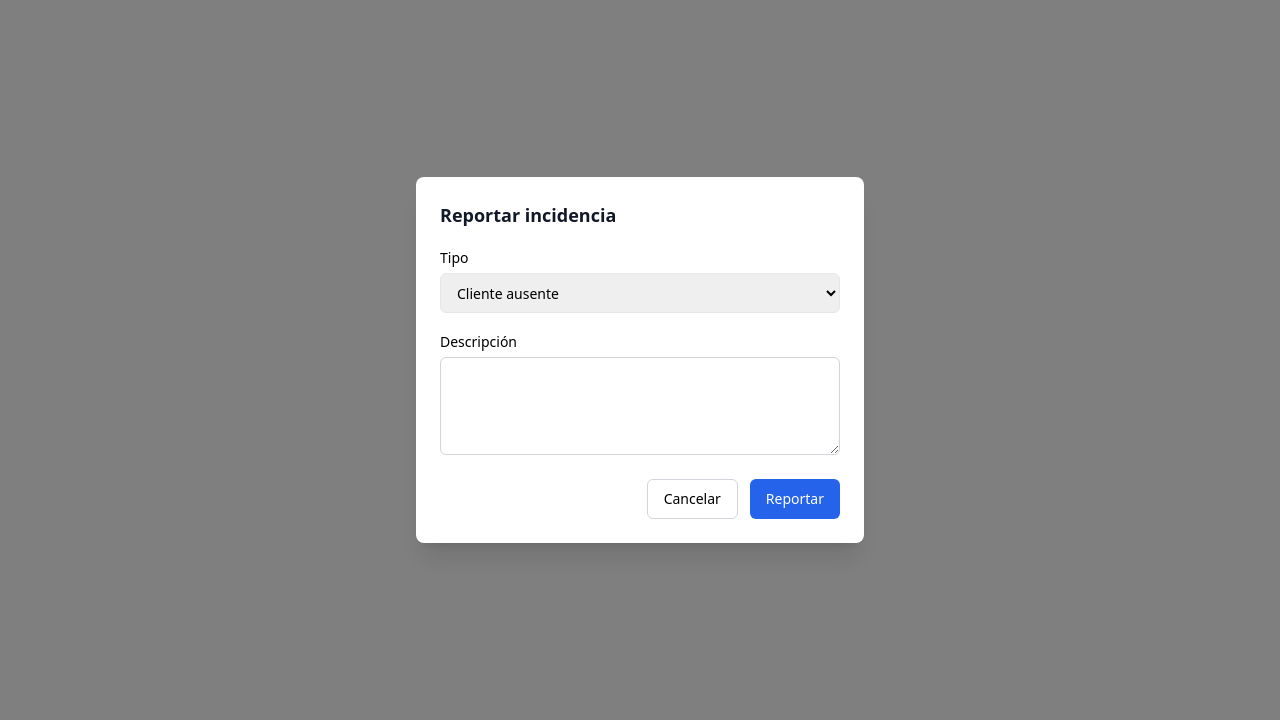
Scenario: R1 - debe enviar { envioId, tipo, descripcion } y mostrar confirmación en éxito › muestra un toast de error con el mensaje devuelto por el backend cuando la mutación falla
Type "Cliente no se encontraba en el lugar" into the text box named "descripción de la incidencia" at [640, 406], box [440,357,840,455]
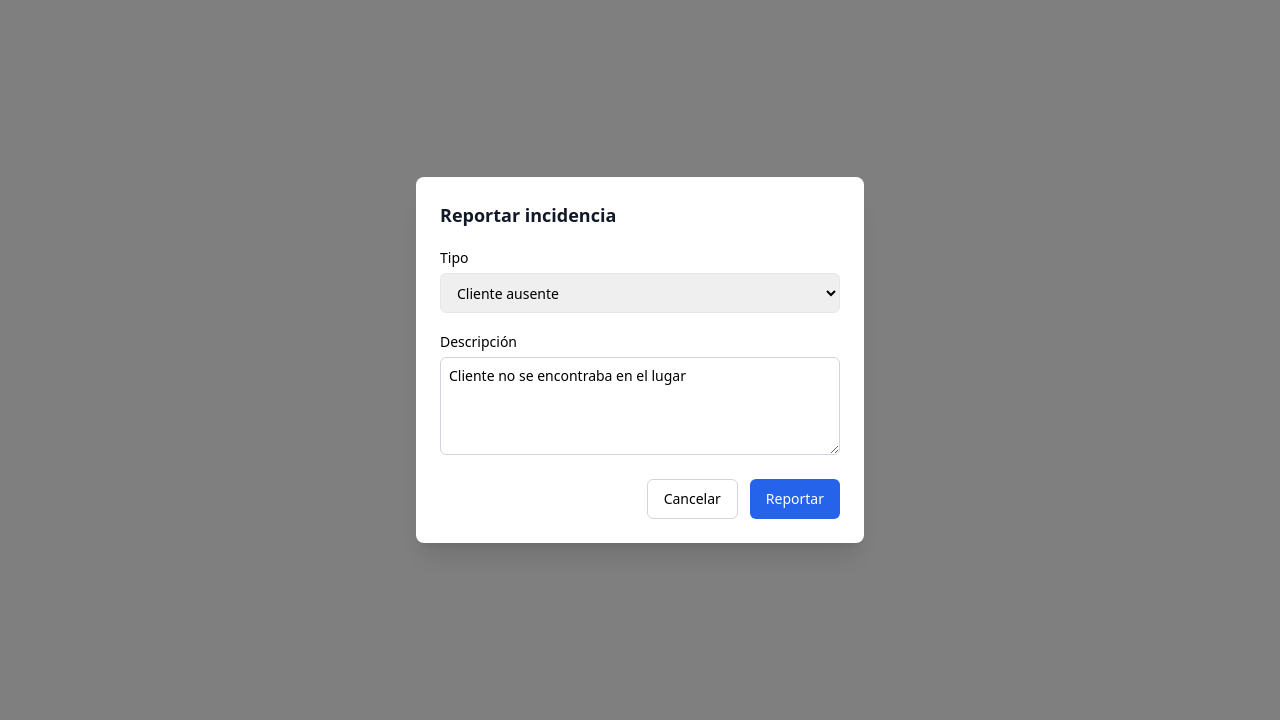
Click the button "Reportar" at [795, 499], box [750,479,840,519]
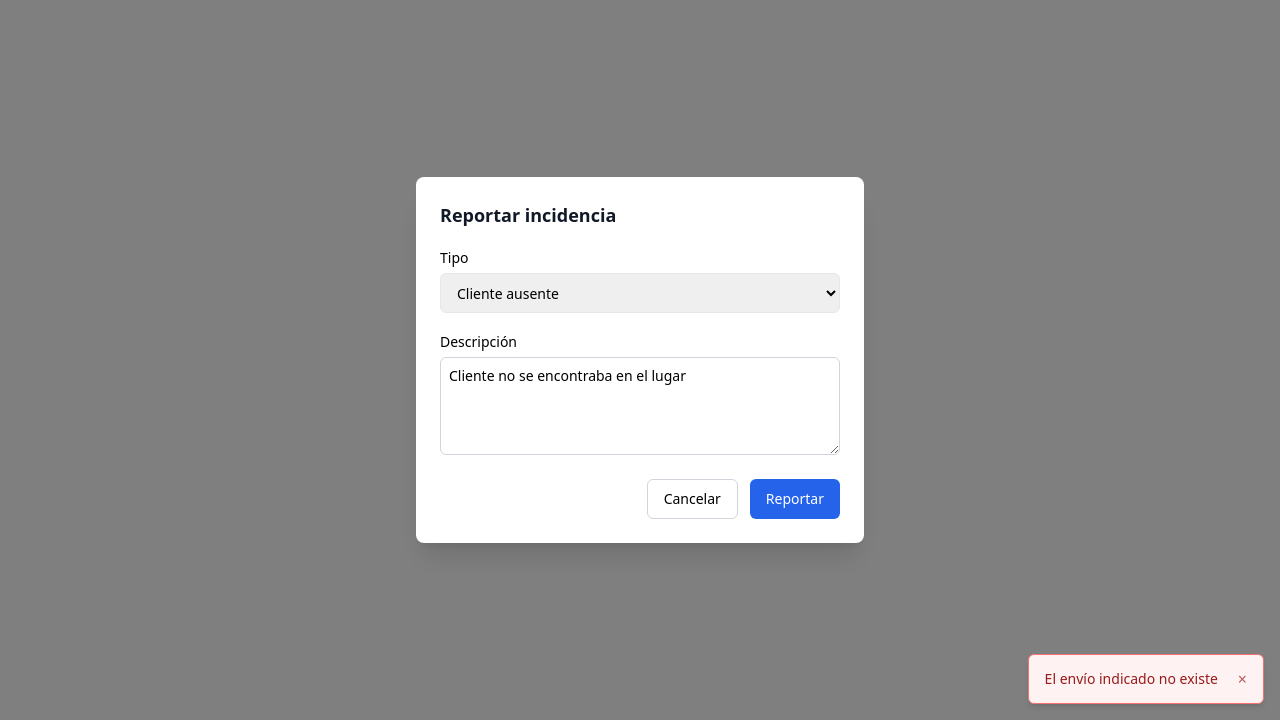
Expected: the message shows "El envío indicado no existe", [1045,669,1218,688]
